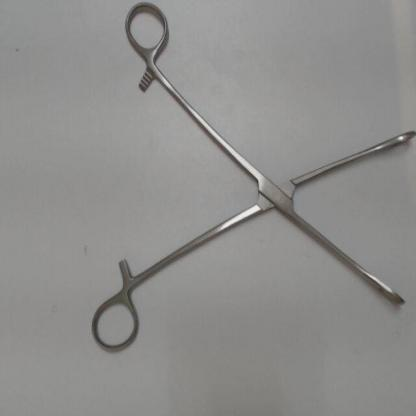Sponge Forceps: (87, 1, 414, 361)
